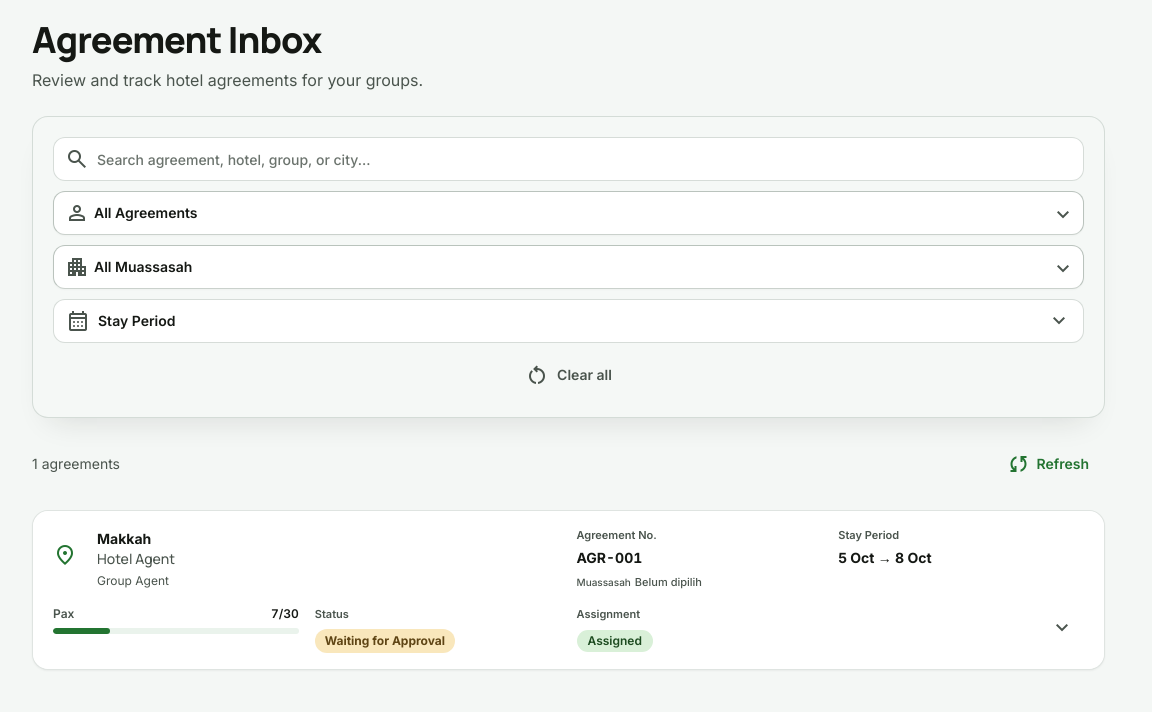
Test: Agent Agreement Inbox › uses canonical allocation status when legacy group identities are hidden
This screenshot has width=1152, height=712.
Expected: the heading "Hotel Agent" is shown, [97, 548, 175, 568]
Click the button with aria-label "Filter agreement assignment status" at {"x": 146, "y": 212}, box [53, 191, 1084, 235]
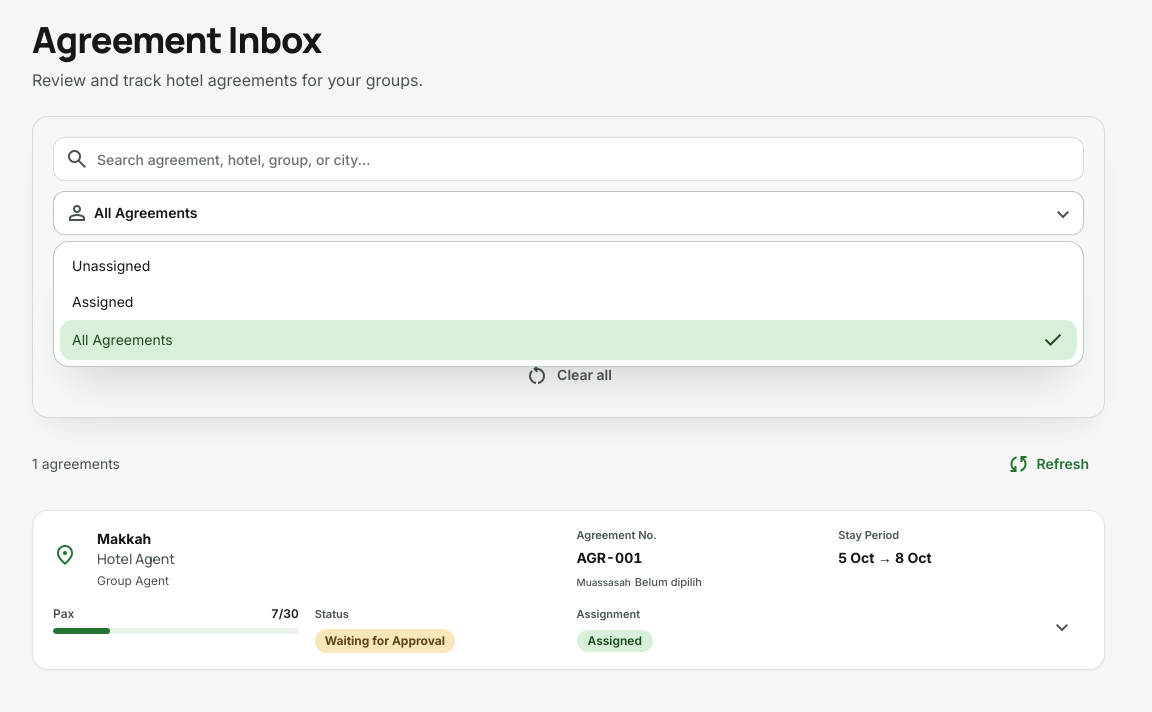
Click the option "Assigned" at {"x": 103, "y": 302}, box [60, 284, 1077, 320]
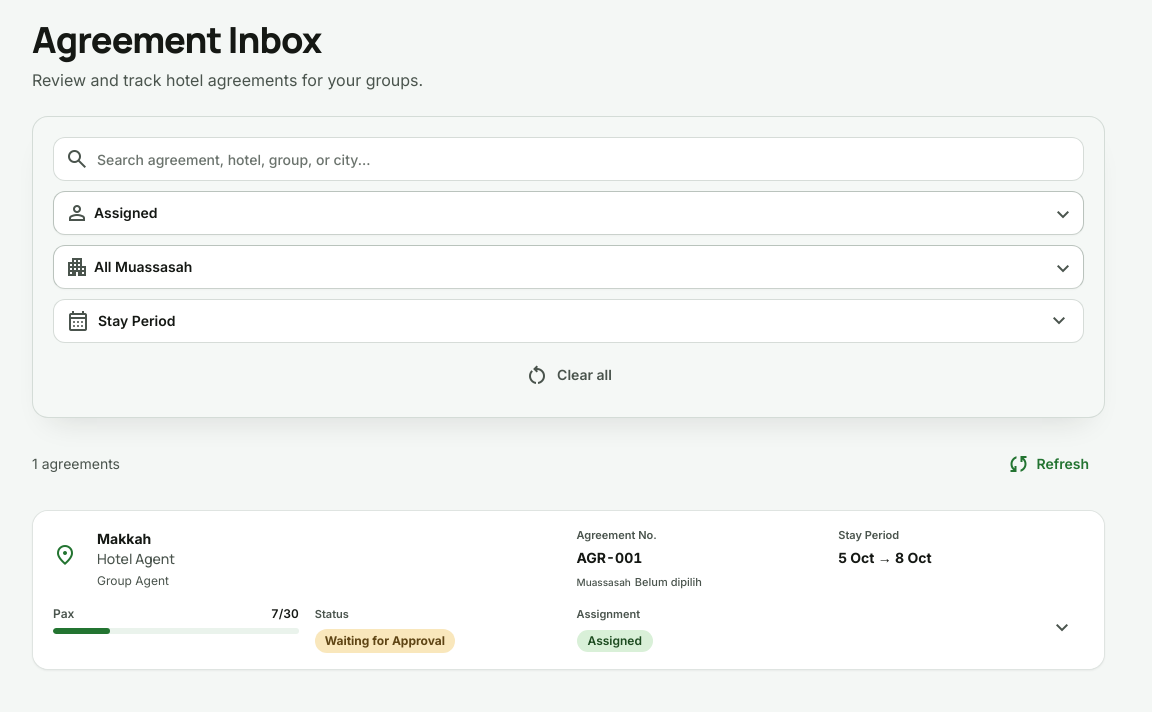
Expected: the heading "Hotel Agent" is shown, [97, 548, 175, 568]
Click the button named "Buka detail AGR-001" at {"x": 1062, "y": 628}, box [1040, 606, 1084, 650]
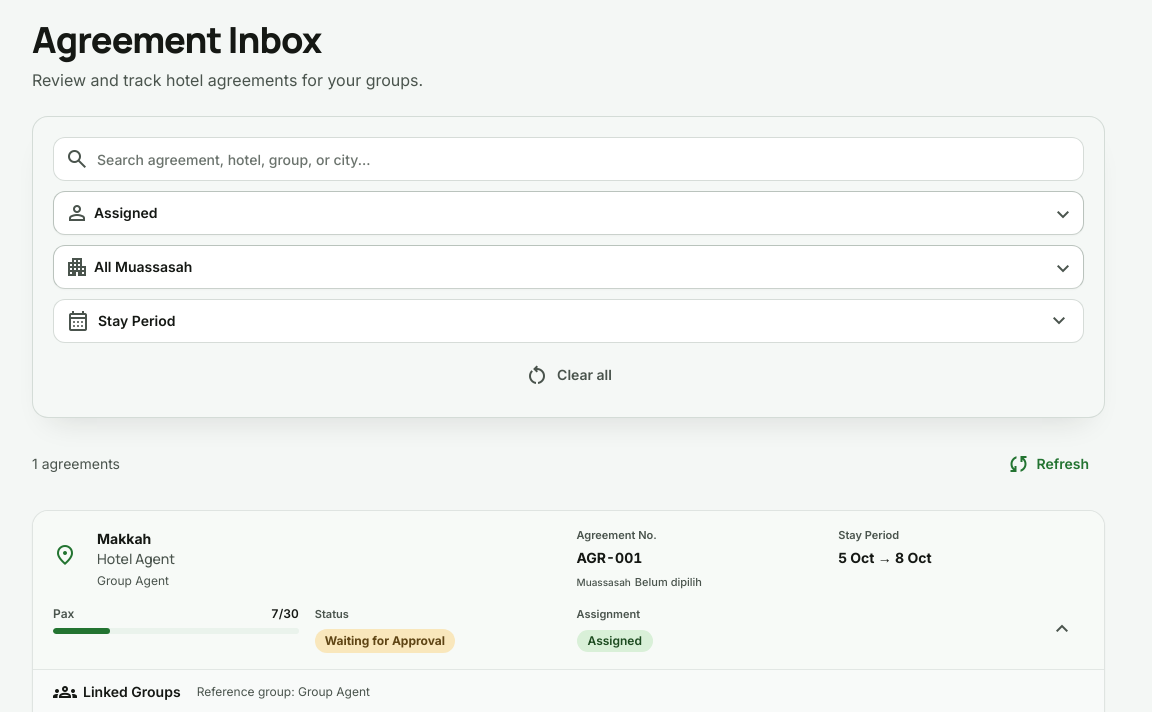
Expected: the text "Linked Groups" is shown, [53, 680, 181, 704]
Click the button with aria-label "Filter agreement assignment status" at {"x": 126, "y": 212}, box [53, 191, 1084, 235]
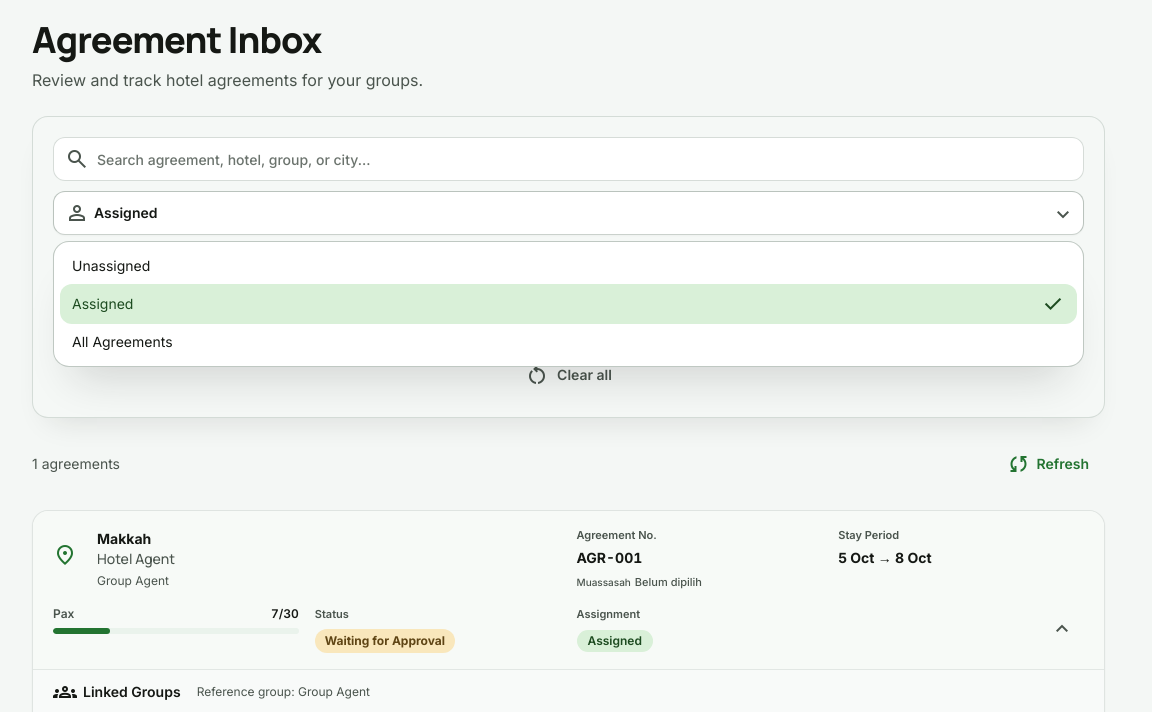
Click the option "Unassigned" at {"x": 111, "y": 266}, box [60, 248, 1077, 284]
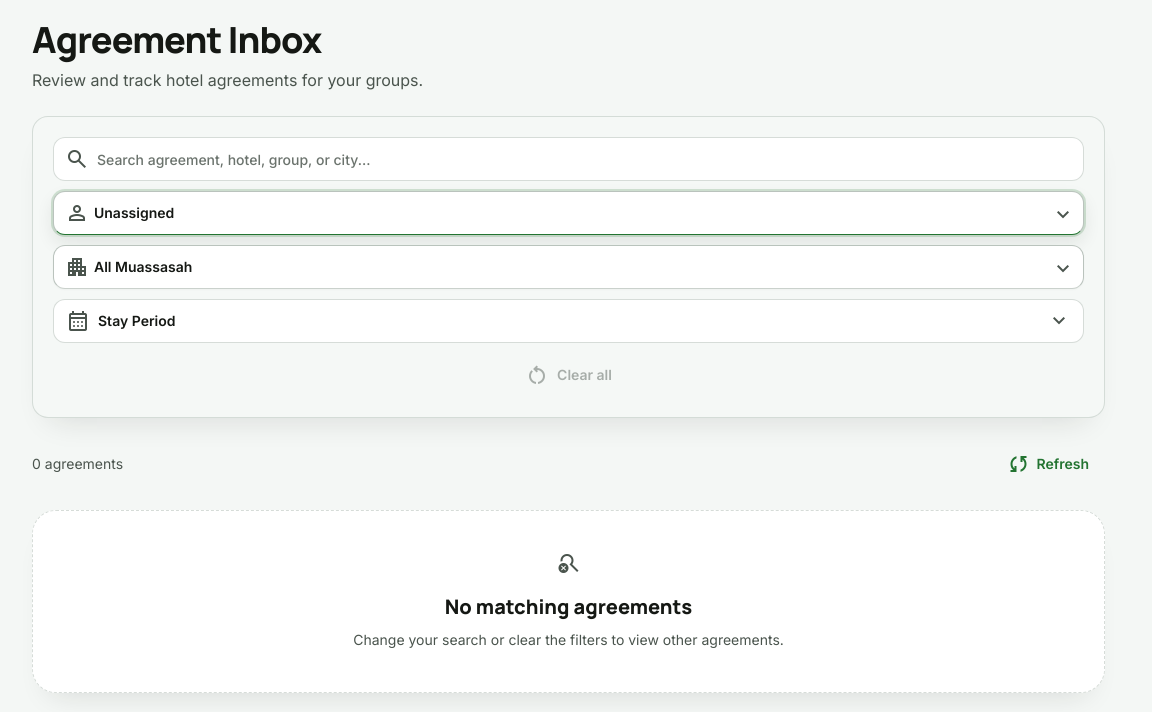
Expected: the heading "No matching agreements" is shown, [445, 593, 692, 620]
